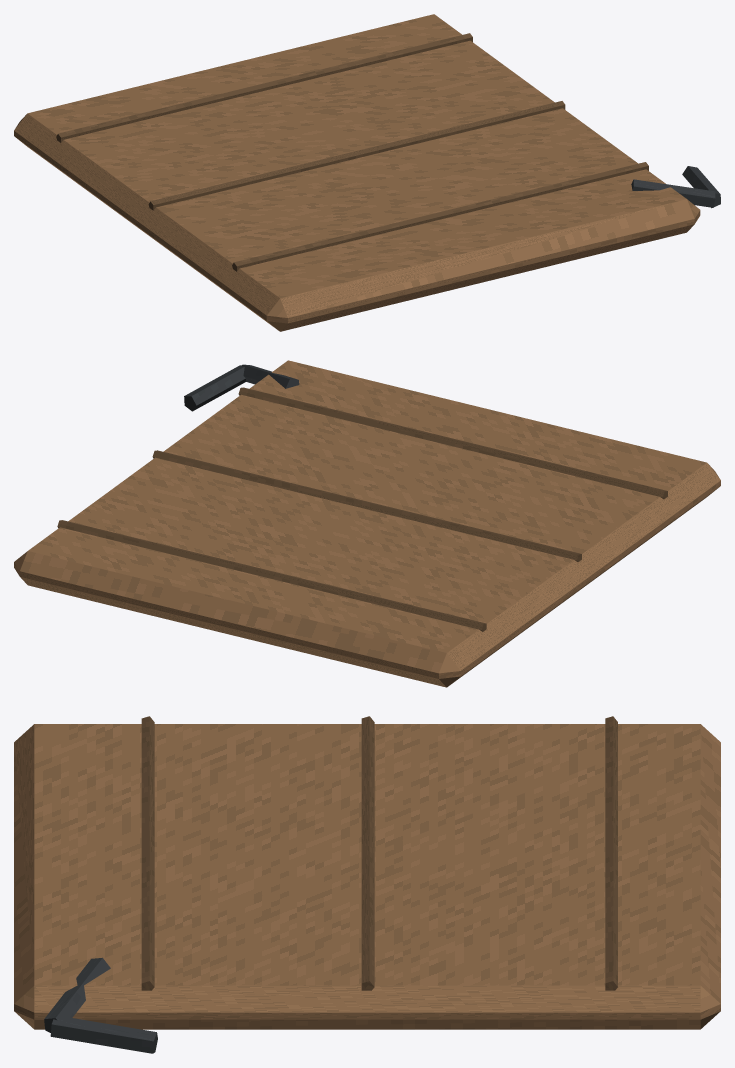
The model's file is electric_blanket.glb.
The picture shows the model from 3 angles, top to bottom: view 1: azimuth 30°, elevation 25°; view 2: azimuth 150°, elevation 25°; view 3: azimuth 270°, elevation 25°; orthographic projection. The views are drawn at different scales.
Visible parts, largest first — view 1: block_folded textile, block_sewn fold 0 (×3), block_power cable 0, block_power cable 1; view 2: block_folded textile, block_sewn fold 0 (×3), block_power cable 1, block_power cable 0; view 3: block_folded textile, block_sewn fold 0 (×3), block_power cable 1, block_power cable 0.
Boxes of the visible parts, x1=… form: block_folded textile: x1=14, y1=14, x2=700, y2=331; block_sewn fold 0 (×3): x1=56, y1=33, x2=648, y2=271; block_power cable 0: x1=631, y1=179, x2=715, y2=207; block_power cable 1: x1=682, y1=166, x2=720, y2=208; block_folded textile: x1=14, y1=360, x2=720, y2=687; block_sewn fold 0 (×3): x1=57, y1=387, x2=667, y2=631; block_power cable 1: x1=184, y1=365, x2=245, y2=411; block_power cable 0: x1=241, y1=364, x2=299, y2=388; block_folded textile: x1=14, y1=724, x2=720, y2=1029; block_sewn fold 0 (×3): x1=141, y1=716, x2=617, y2=990; block_power cable 1: x1=50, y1=1016, x2=157, y2=1053; block_power cable 0: x1=44, y1=957, x2=110, y2=1032.
Size of the model in its own units: 0.4615 by 0.038 by 0.4505.
Materials: 1 (1 with a texture image).
